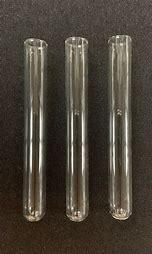Test tube: (63, 29, 96, 220), (105, 29, 137, 218), (18, 37, 50, 221)
